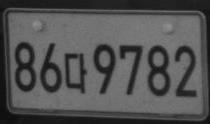2: (172, 44, 197, 96)
6: (39, 43, 62, 92)
7: (119, 44, 143, 96)
8: (146, 44, 170, 96), (13, 41, 37, 92)
9: (92, 43, 116, 95)
다: (64, 52, 88, 94)
